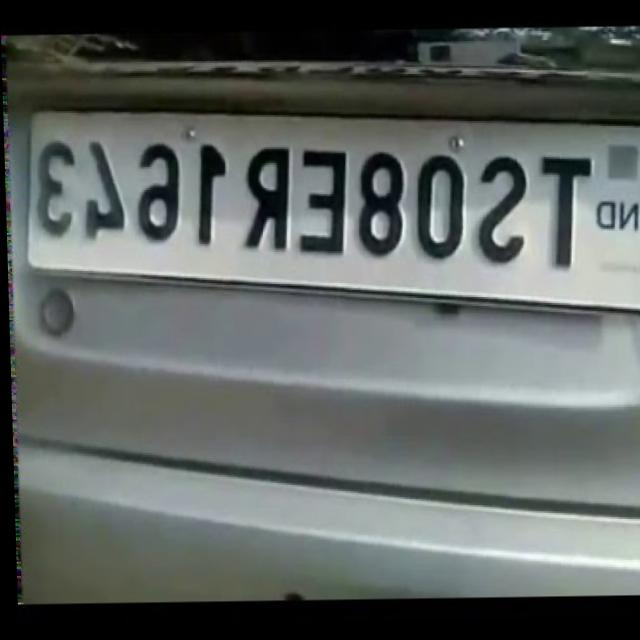licence: (26, 123, 640, 272)
